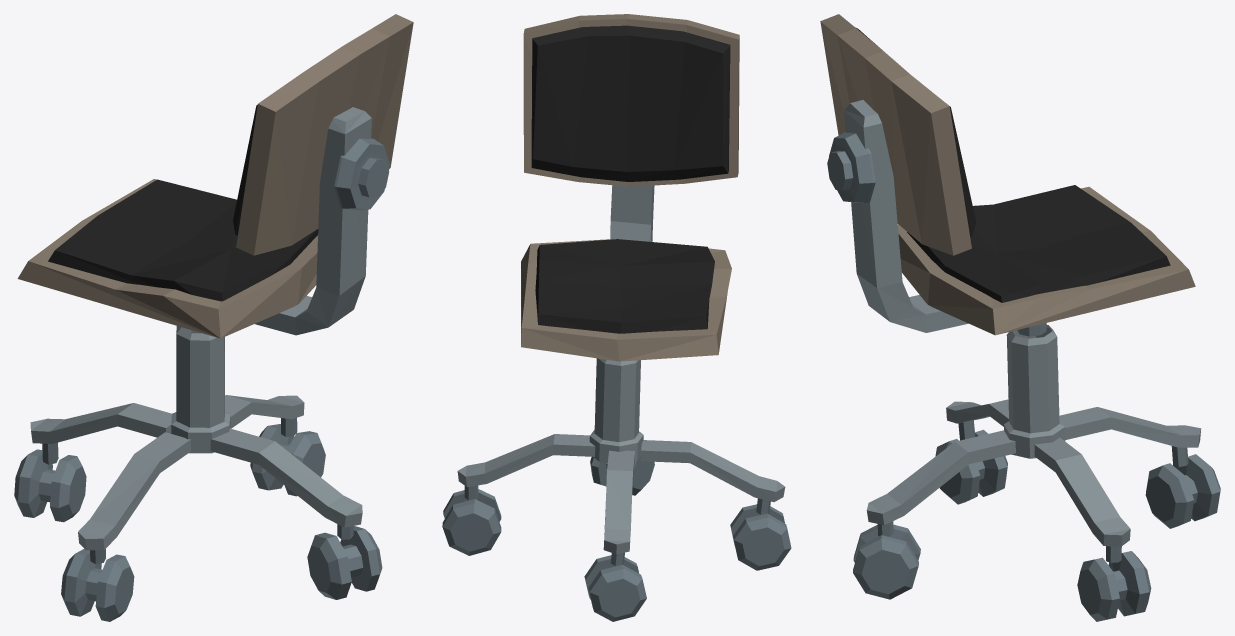
File: chair.glb
The picture shows the model from 3 angles, left to right: view 1: azimuth 30°, elevation 25°; view 2: azimuth 150°, elevation 25°; view 3: azimuth 270°, elevation 25°; orthographic projection. The views are drawn at different scales.
Visible parts, largest first — view 1: chair; view 2: chair; view 3: chair.
Part boxes in pixels (<box>): chair: <box>14,14,413,621</box>; chair: <box>442,14,791,621</box>; chair: <box>820,14,1220,621</box>.
Bounding box in the file's own units: 0.6007 × 0.9535 × 0.638.
